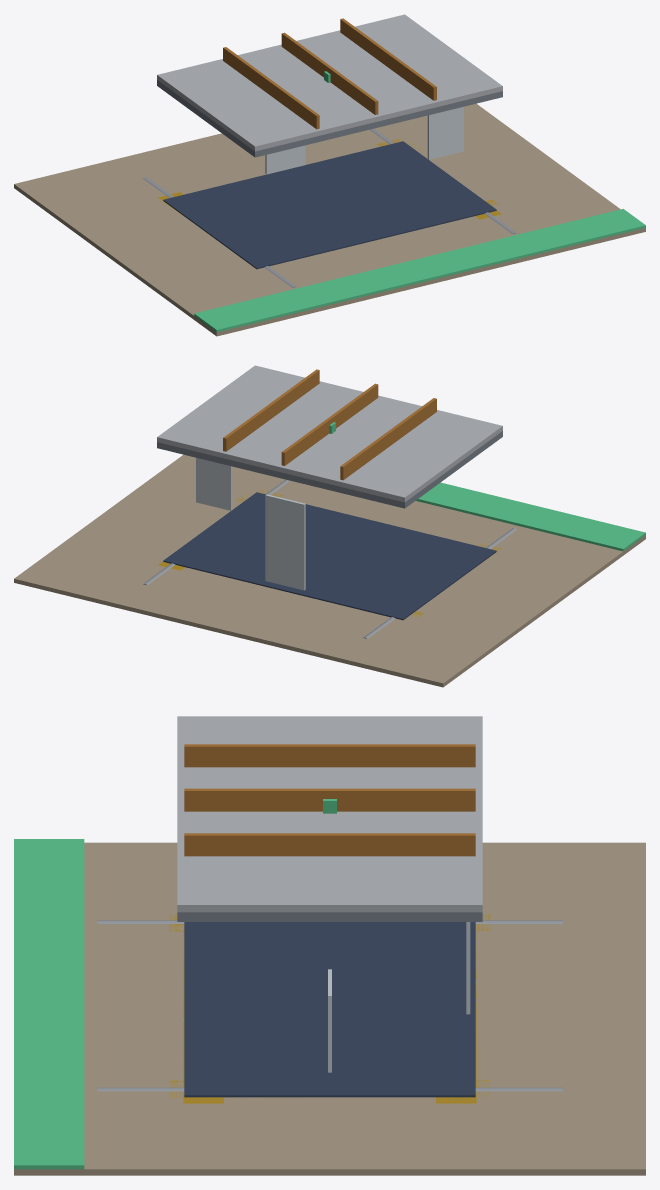
File: construction_master.glb
3 views of the same model, one above another, from view 1: azimuth 30°, elevation 25°; view 2: azimuth 150°, elevation 25°; view 3: azimuth 270°, elevation 25° (orthographic). The views are drawn at different scales.
Parts seen in each view (by area): view 1: world; view 2: world; view 3: world.
Part boxes in pixels (<box>): world: <box>14,14,645,336</box>; world: <box>14,365,645,687</box>; world: <box>14,716,645,1175</box>.
Bounding box in the file's own units: 11 × 4.2 × 9.
